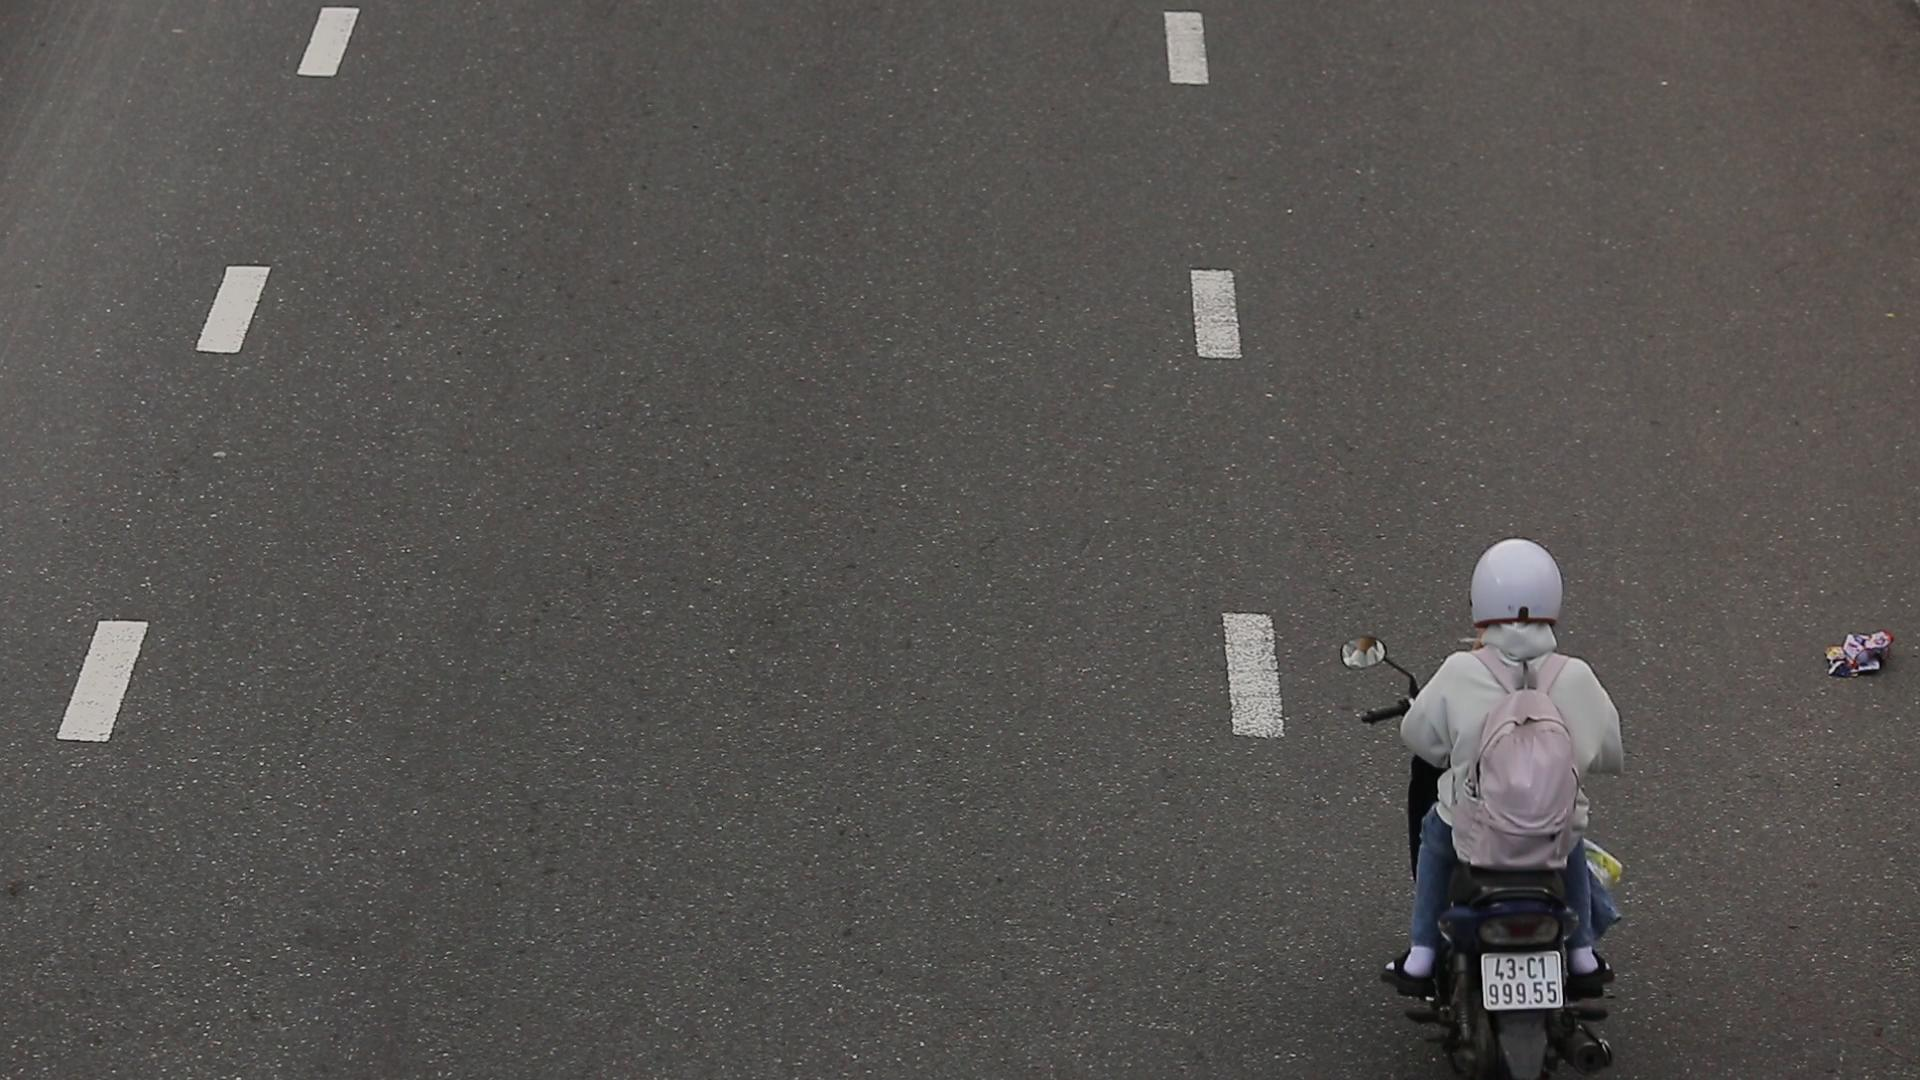motobike: (1338, 524, 1652, 1080)
